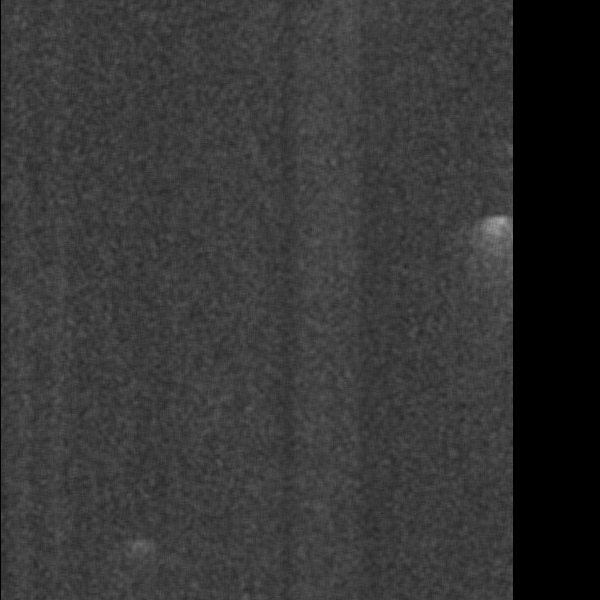spark: (2, 236, 69, 371), (332, 409, 394, 527), (448, 561, 491, 598), (84, 149, 118, 184)
